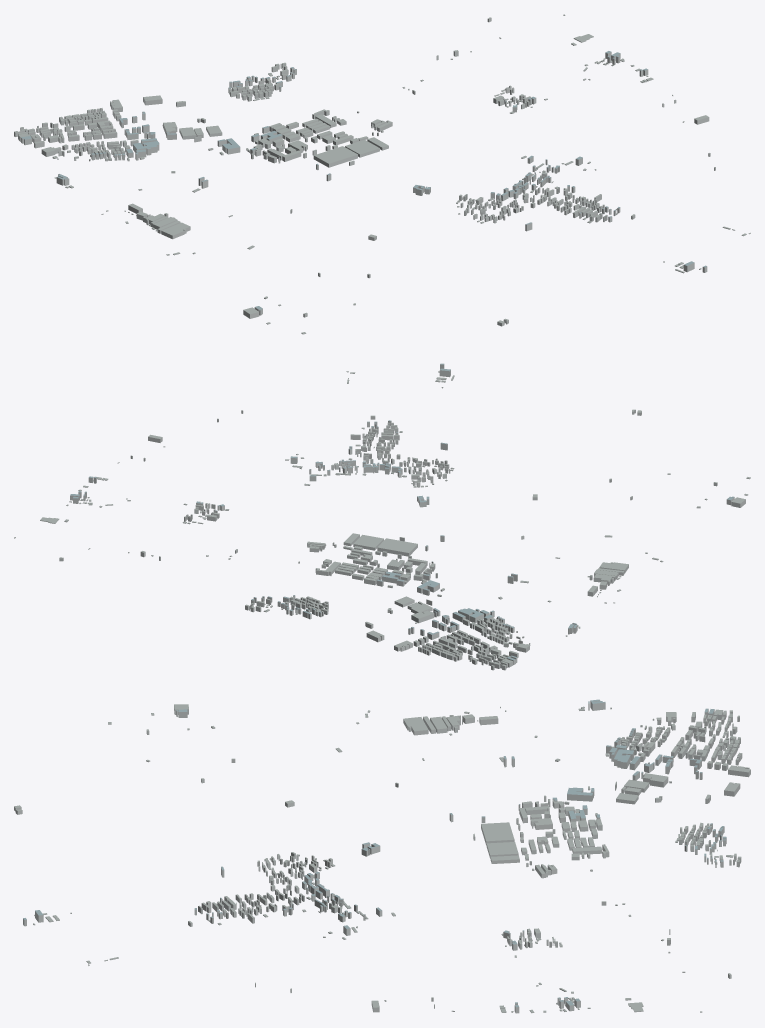
Rendered from far.glb.
The picture shows the model from 3 angles, top to bottom: view 1: azimuth 30°, elevation 25°; view 2: azimuth 150°, elevation 25°; view 3: azimuth 270°, elevation 25°; orthographic projection. The views are drawn at different scales.
Size of the model in its own units: 2104 by 25.45 by 2134.
